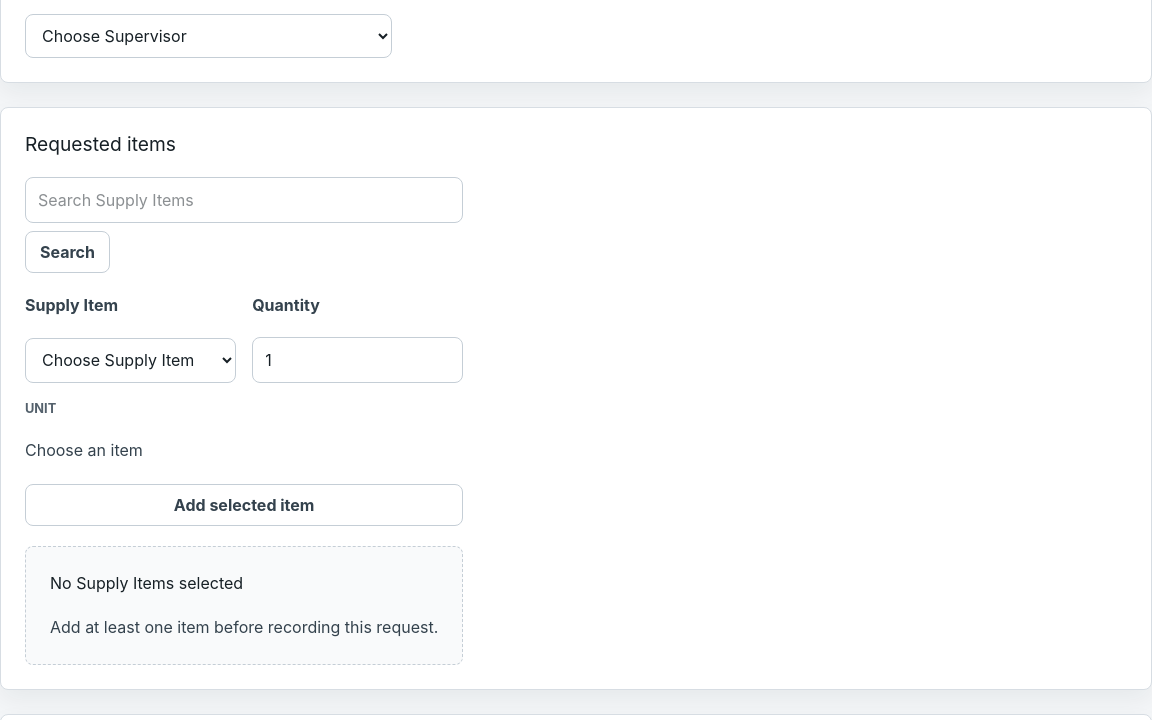
it: Supply Request create and detail surfaces › supports explicit item add, quantity edit, order controls, and removal
(page scrolled)
Select "A-1 · Filter · Each" in the dropdown labelled "Supply Item": (131, 360) [25,338,236,383]
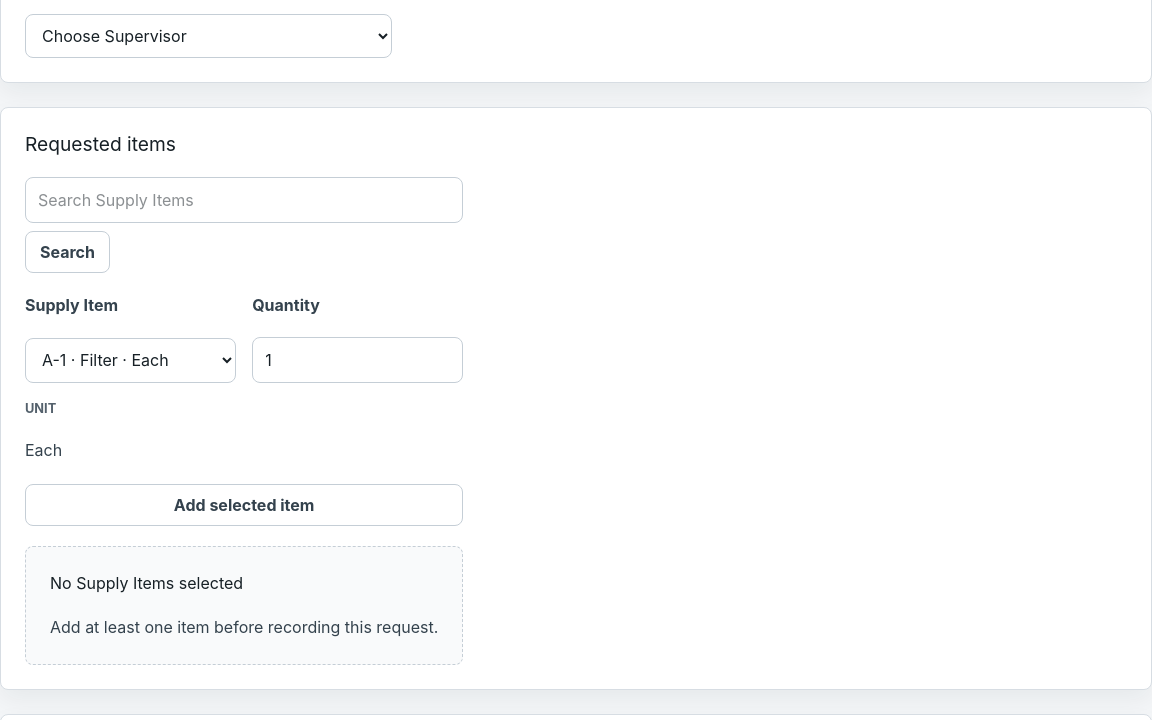
Replace the text in the number field labelled "Quantity" with "3": (358, 360) [252,337,463,383]
Click the button "Add selected item": (244, 505) [25,484,463,526]
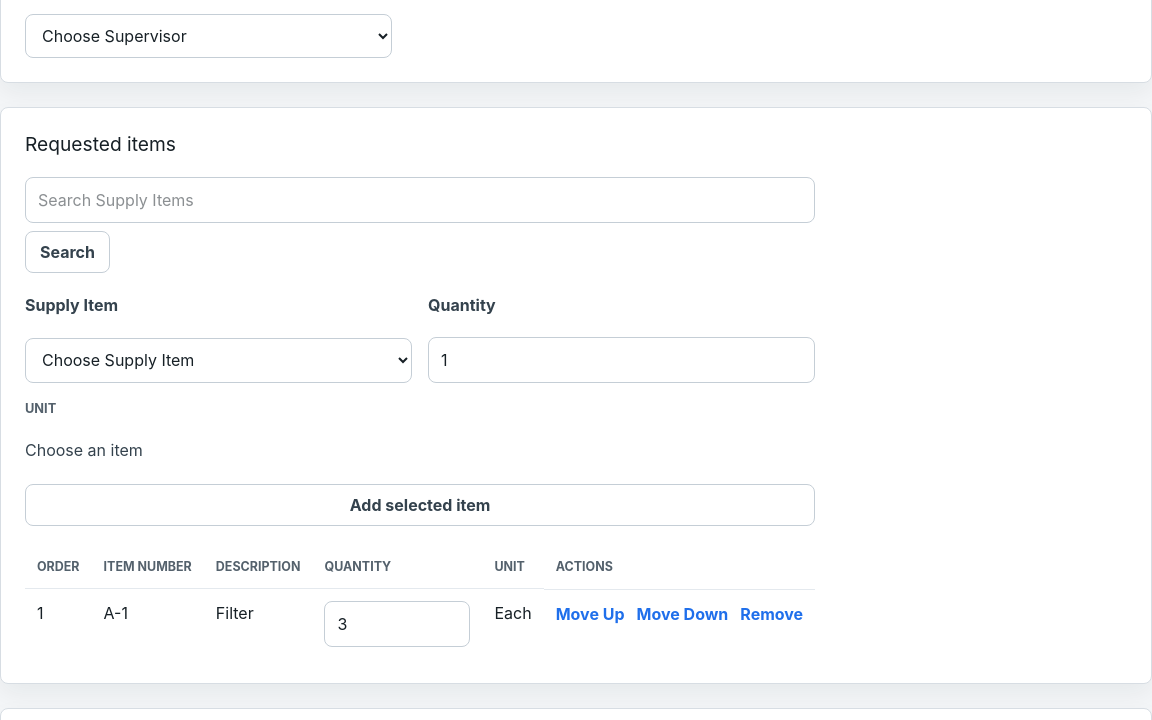
Expected: the text "Each" is shown, [482,589,544,659]
Expected: the number field named "Quantity for A-1" holds "3", [324,601,470,647]
Select "B-2 · Hose · Foot" in the dropdown labelled "Supply Item": (219, 360) [25,338,412,383]
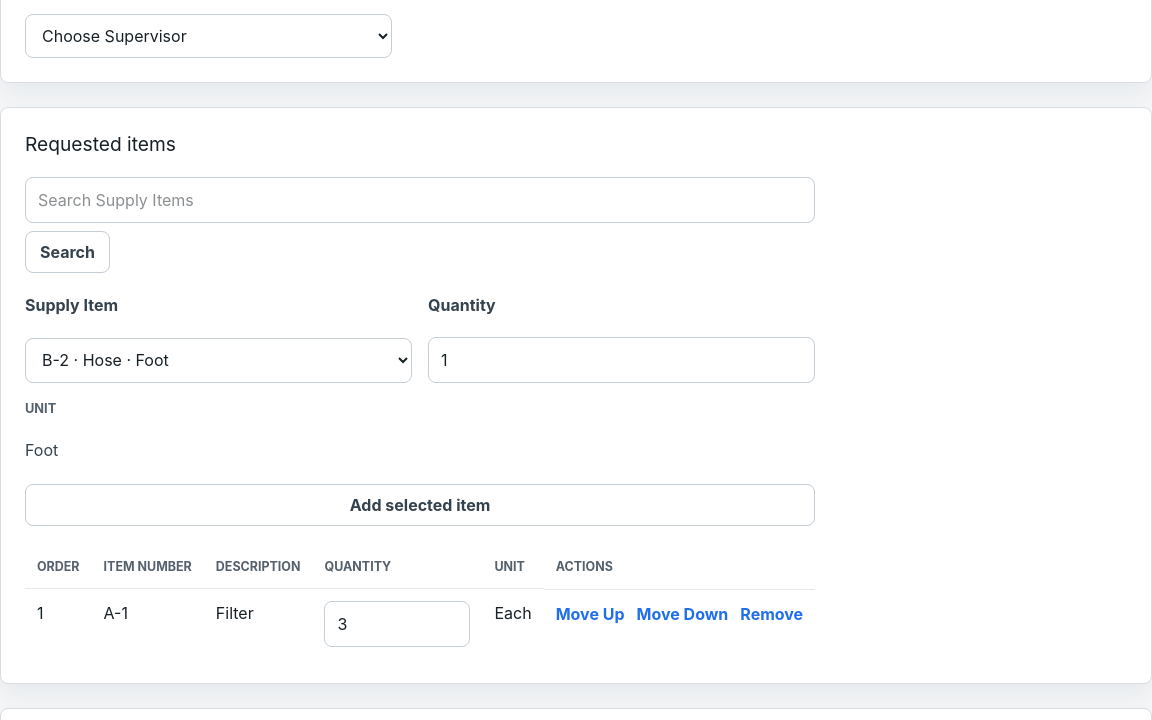
Click the button "Add selected item": (420, 505) [25,484,815,526]
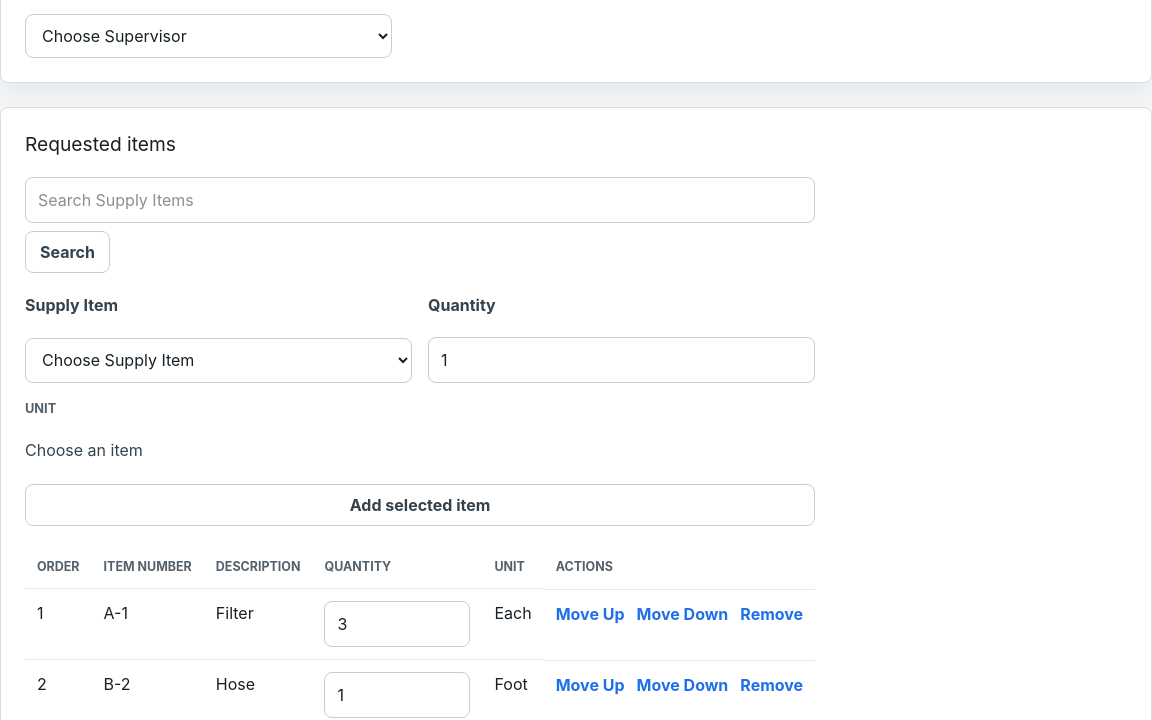
Click the button with aria-label "Move B-2 up": (590, 685) [556,673,625,697]
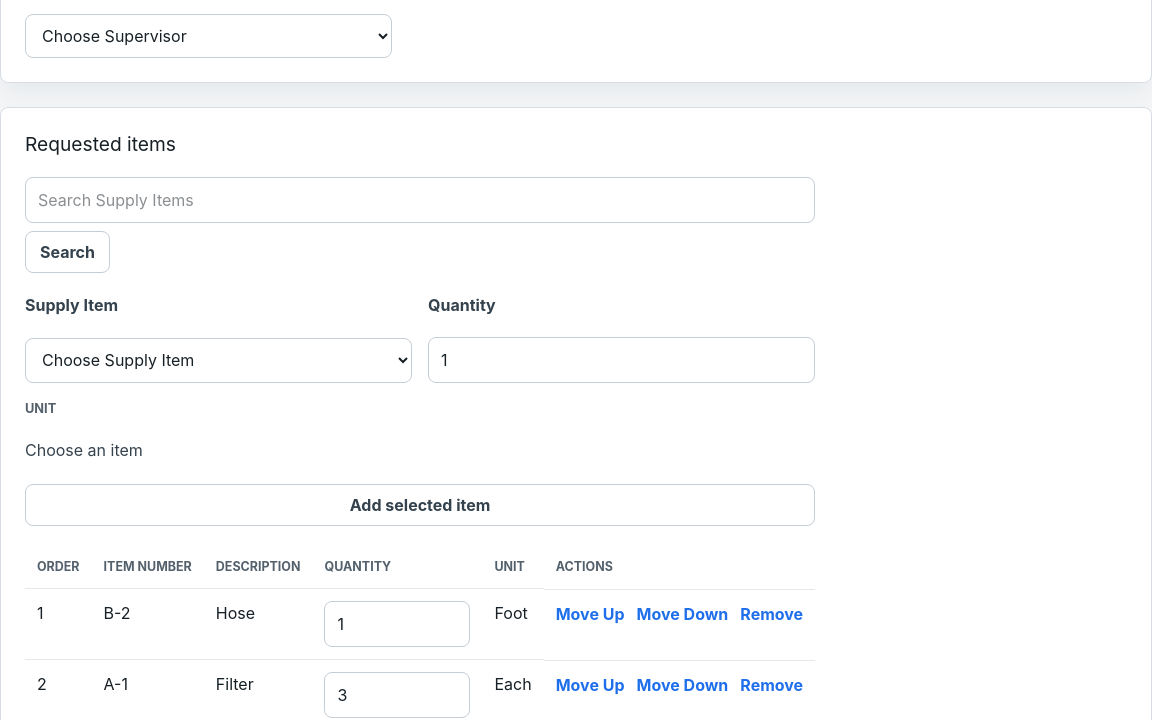
Expected: the text "B-2" is shown, [92,589,204,660]
Click the button with aria-label "Remove B-2": (772, 614) [740,602,803,626]
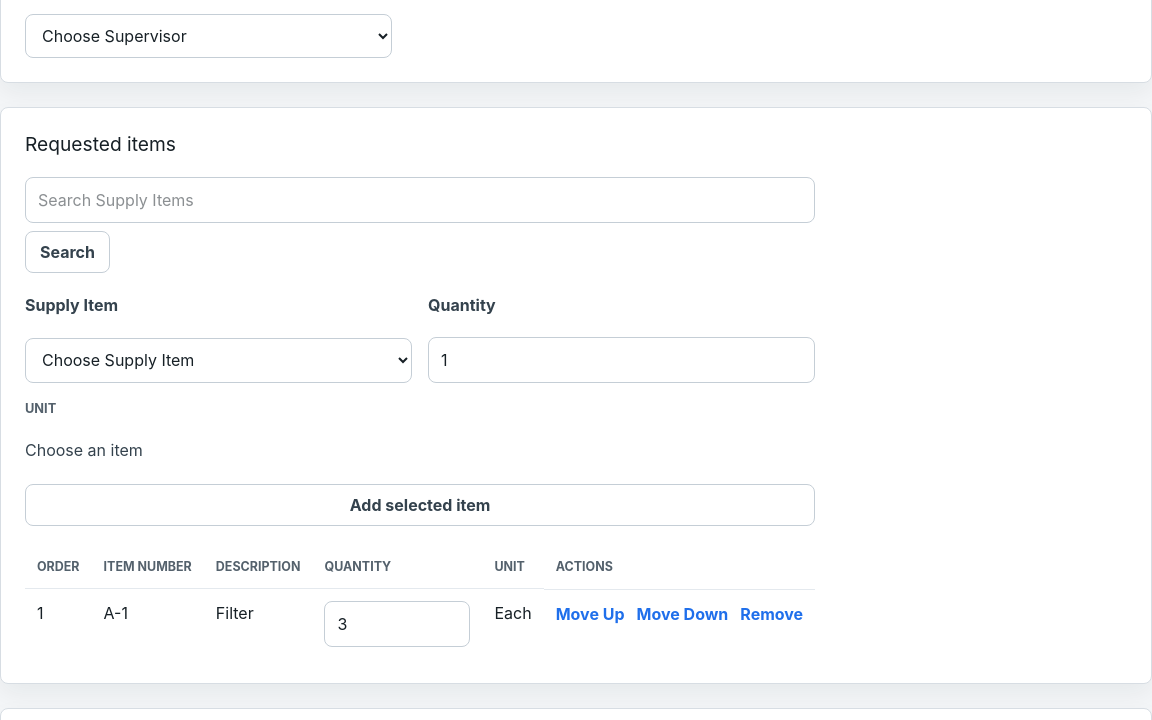
Expected: the text "B-2" is gone
